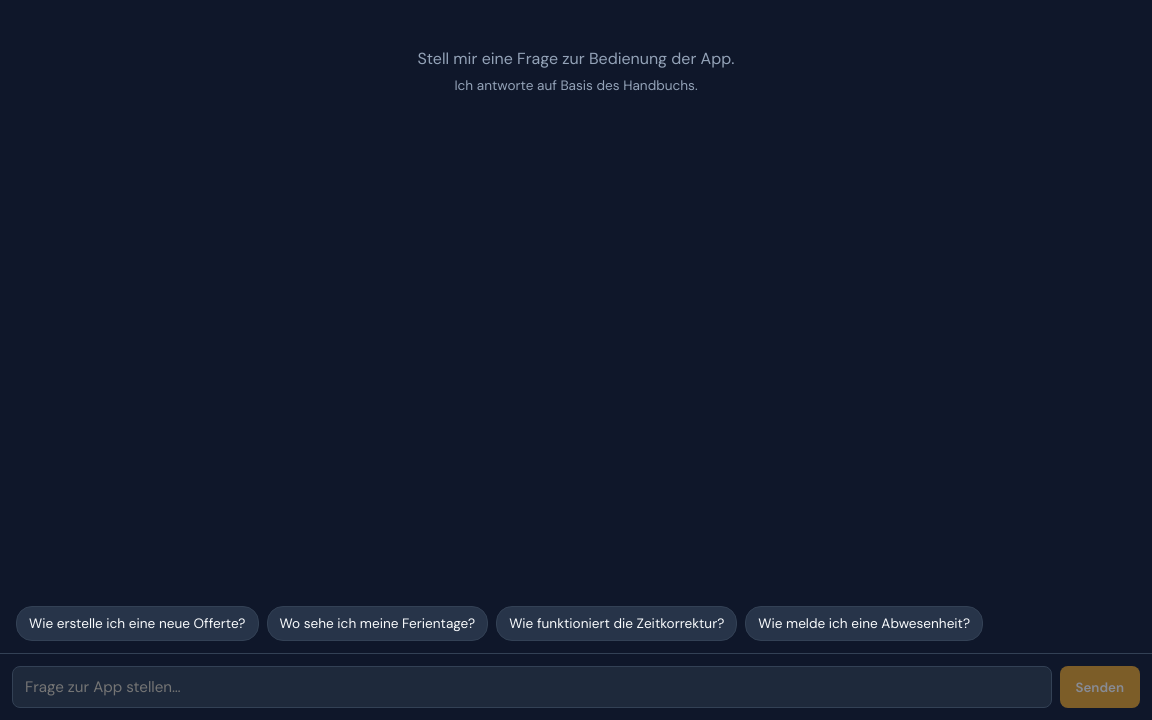
Test: HelpBot — Links in der Antwort › zeigt die Quellen unter der Antwort
Step 1. Type "Rechnung?" into the text box with placeholder "Frage zur App stellen…" → (532, 687), box [12,666,1052,708]
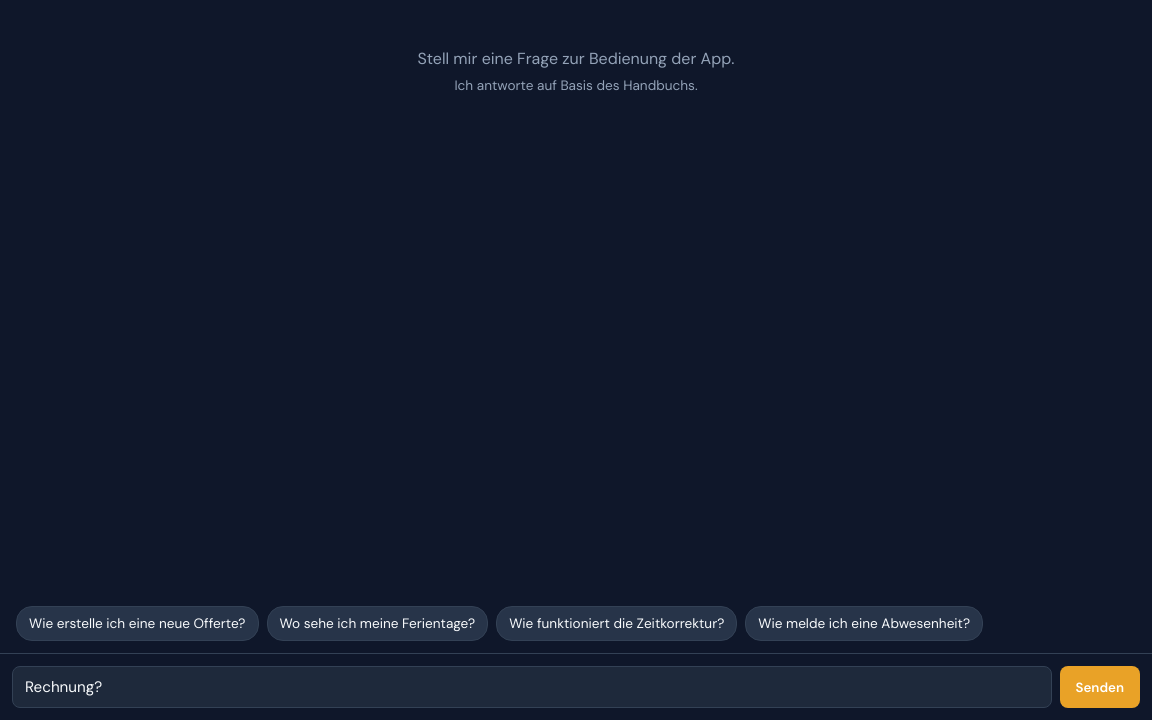
Step 2. Click the button "Senden" → (1100, 687), box [1060,666,1140,708]
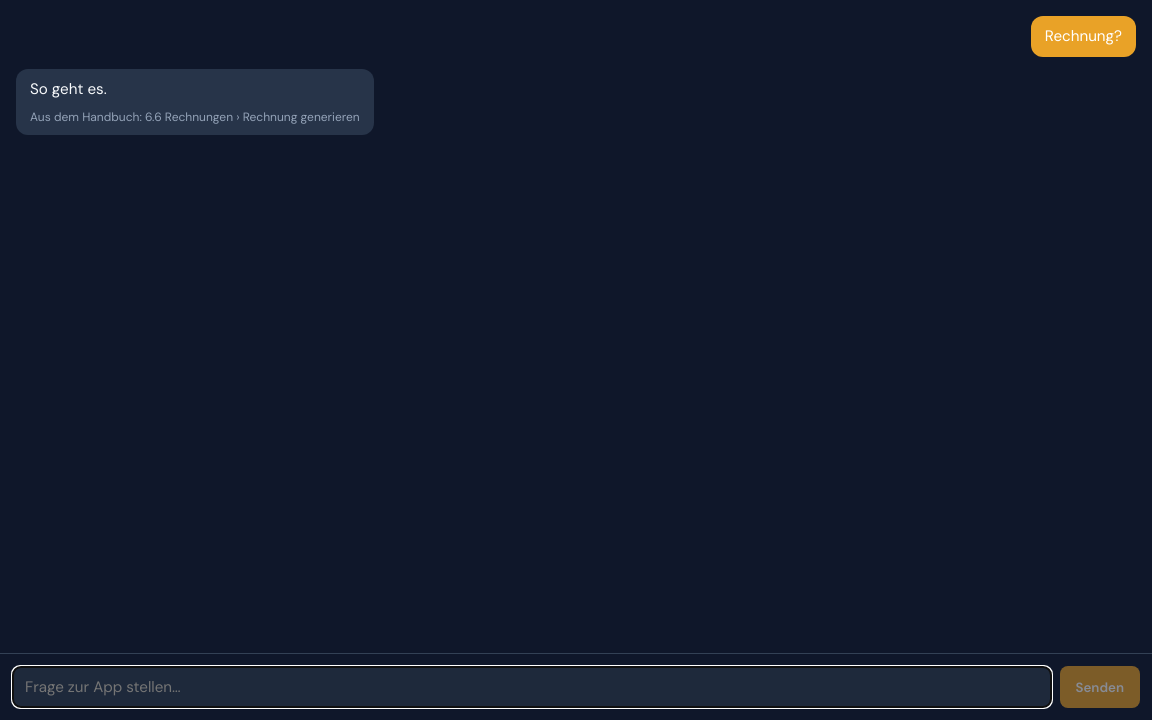
Check: the text "Aus dem Handbuch: 6.6 Rechnungen › Rechnung generieren" is shown, box [30,109,360,125]
